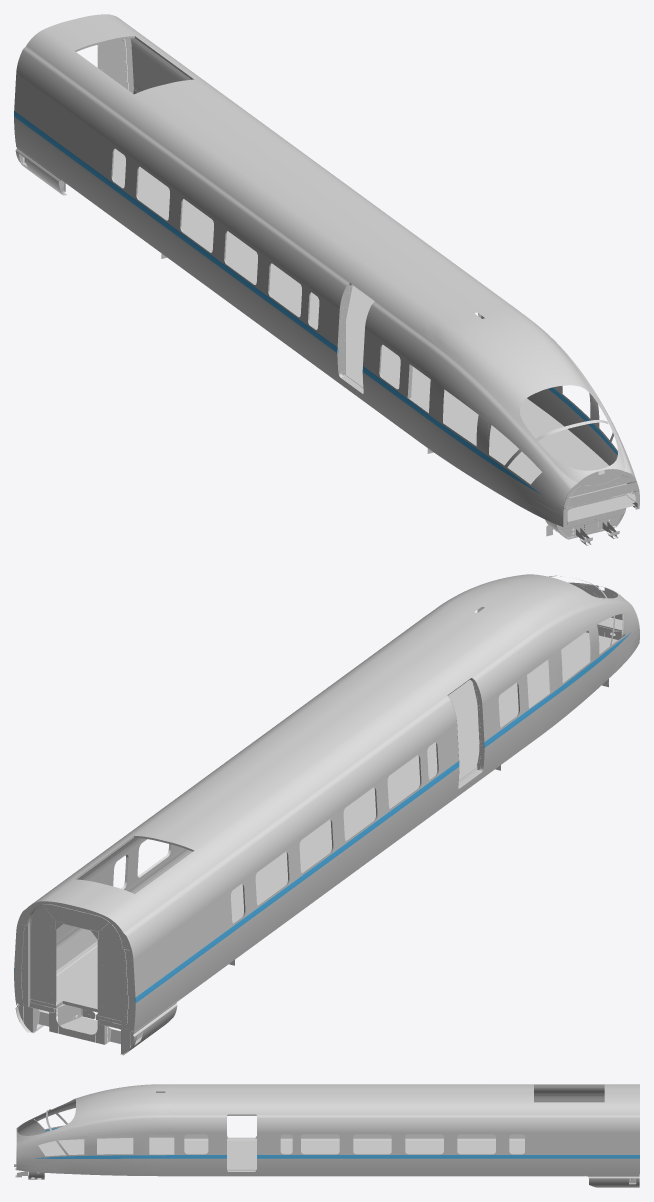
Rendered from che1.glb.
3 views of the same model, one above another, from view 1: azimuth 30°, elevation 25°; view 2: azimuth 150°, elevation 25°; view 3: azimuth 270°, elevation 25° (orthographic). The views are drawn at different scales.
Visible parts, largest first — view 1: 00001351046_B.cgr|:|FEAFBE68B67D578F107260617159A07C5186A54C, 00001351046_B.cgr|:|0AE21EB7A8062768F75C7C08CD51AE7A73FB6B4A (×8); view 2: 00001351046_B.cgr|:|FEAFBE68B67D578F107260617159A07C5186A54C, 00001351046_B.cgr|:|0AE21EB7A8062768F75C7C08CD51AE7A73FB6B4A (×4); view 3: 00001351046_B.cgr|:|FEAFBE68B67D578F107260617159A07C5186A54C, 00001351046_B.cgr|:|0AE21EB7A8062768F75C7C08CD51AE7A73FB6B4A (×6).
Boxes of the visible parts, x1,y1,x2,y2 form: 00001351046_B.cgr|:|FEAFBE68B67D578F107260617159A07C5186A54C: [14, 14, 508, 429]; 00001351046_B.cgr|:|0AE21EB7A8062768F75C7C08CD51AE7A73FB6B4A (×8): [14, 38, 639, 545]; 00001351046_B.cgr|:|FEAFBE68B67D578F107260617159A07C5186A54C: [14, 614, 526, 1029]; 00001351046_B.cgr|:|0AE21EB7A8062768F75C7C08CD51AE7A73FB6B4A (×4): [14, 574, 639, 1055]; 00001351046_B.cgr|:|FEAFBE68B67D578F107260617159A07C5186A54C: [176, 1084, 639, 1173]; 00001351046_B.cgr|:|0AE21EB7A8062768F75C7C08CD51AE7A73FB6B4A (×6): [15, 1084, 639, 1187].
Size of the model in its own units: 3.26 by 3.62 by 24.52.
